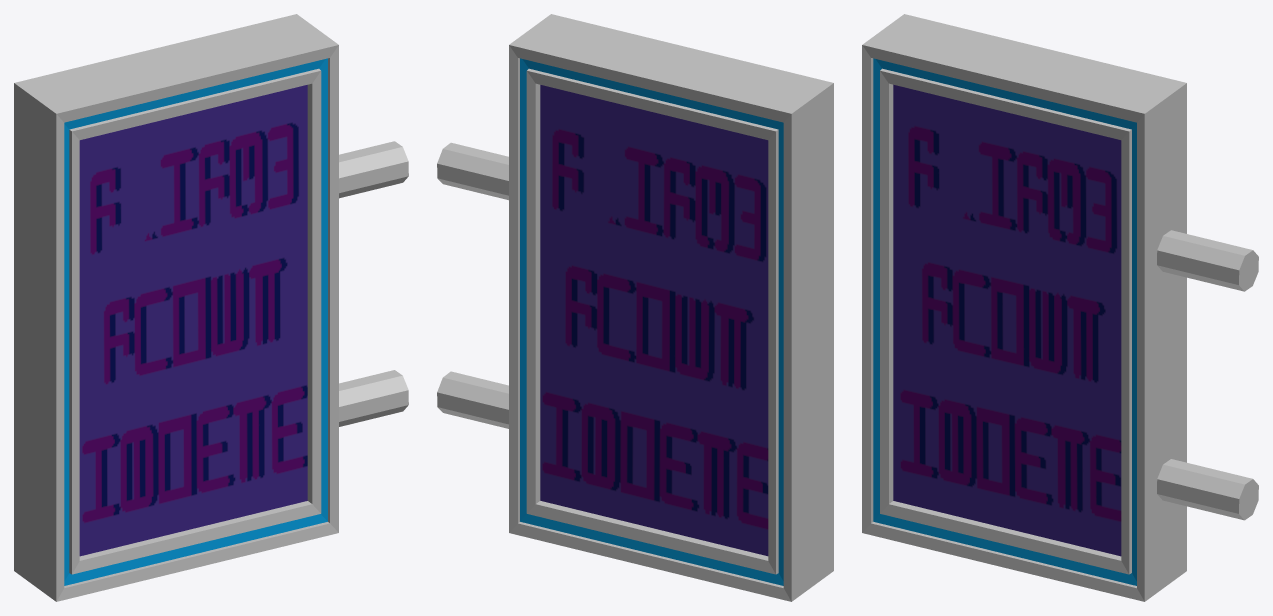
Rendered from Sign_Side01.fbx.
3 views of the same model, side by side, from view 1: azimuth 30°, elevation 25°; view 2: azimuth 150°, elevation 25°; view 3: azimuth 330°, elevation 25° (orthographic).
Parts seen in each view (by area): view 1: Cube.465; view 2: Cube.465; view 3: Cube.465.
Part boxes in pixels (x1,y1,x2,y2): Cube.465: (14, 14, 408, 601); Cube.465: (437, 14, 833, 601); Cube.465: (862, 14, 1258, 601).
Bounding box in the file's own units: 97.29 × 124 × 19.51.
